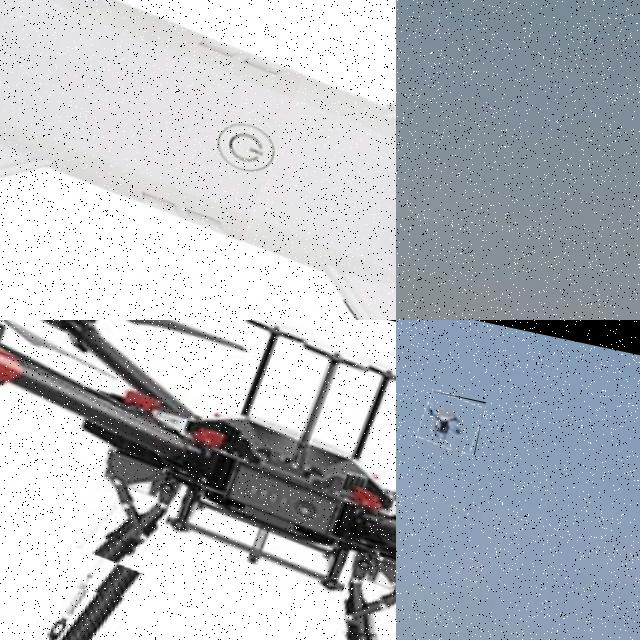drone: (0, 0, 396, 320), (0, 320, 396, 640), (416, 390, 485, 454)
